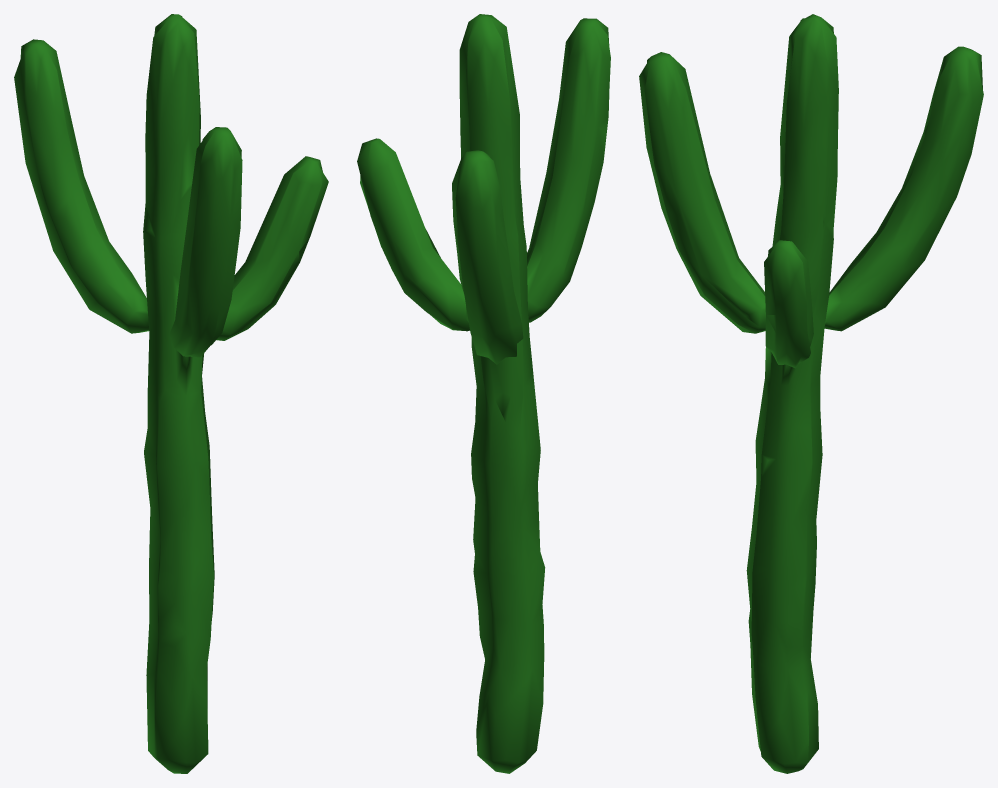
The model's file is Cactus_2 (1).fbx.
3 renders of one model, left to right at view 1: azimuth 30°, elevation 25°; view 2: azimuth 150°, elevation 25°; view 3: azimuth 270°, elevation 25°, orthographic. The views are drawn at different scales.
Visible parts, largest first — view 1: cactus; view 2: cactus; view 3: cactus.
Part boxes in pixels (<box>): cactus: <box>14,14,328,773</box>; cactus: <box>357,14,610,773</box>; cactus: <box>639,14,983,773</box>.
Bounding box in the file's own units: 2141 × 6996 × 2869.
